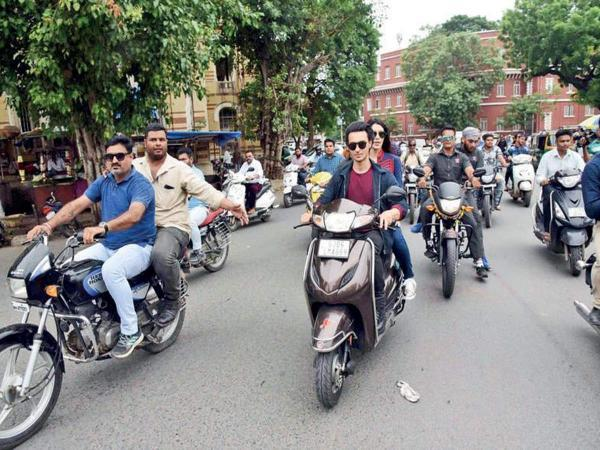nohelmet: (95, 131, 143, 187), (339, 118, 372, 172), (145, 125, 181, 164), (433, 123, 457, 161), (464, 123, 479, 156)
